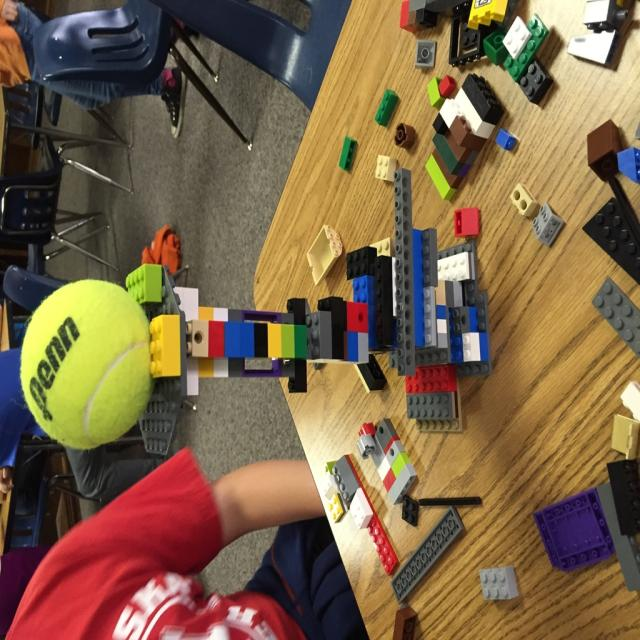Tennis ball: (20, 278, 152, 454)
